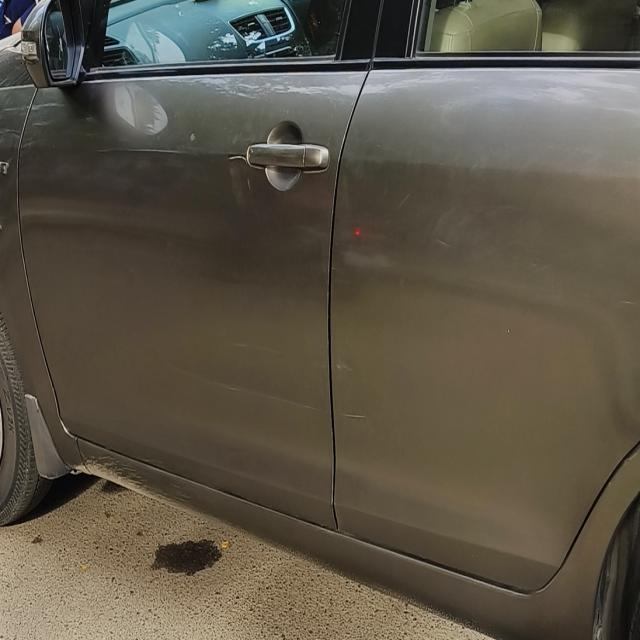scratch: (213, 374, 380, 438), (433, 231, 466, 268)
